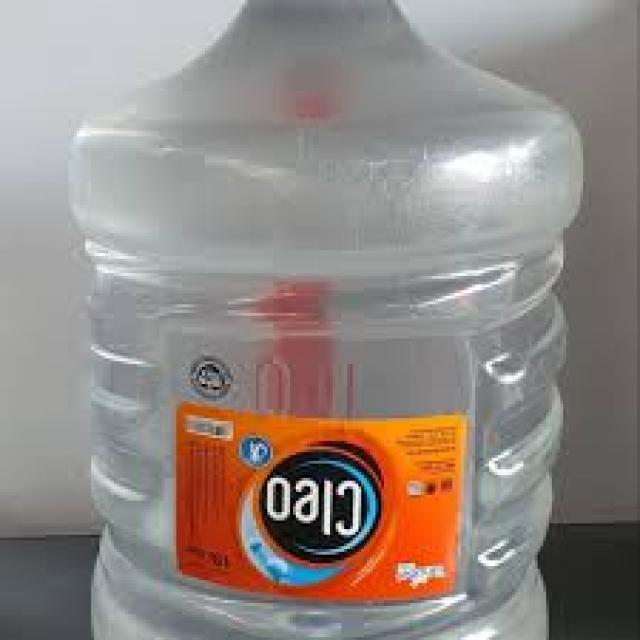Galon: (65, 0, 586, 637)
